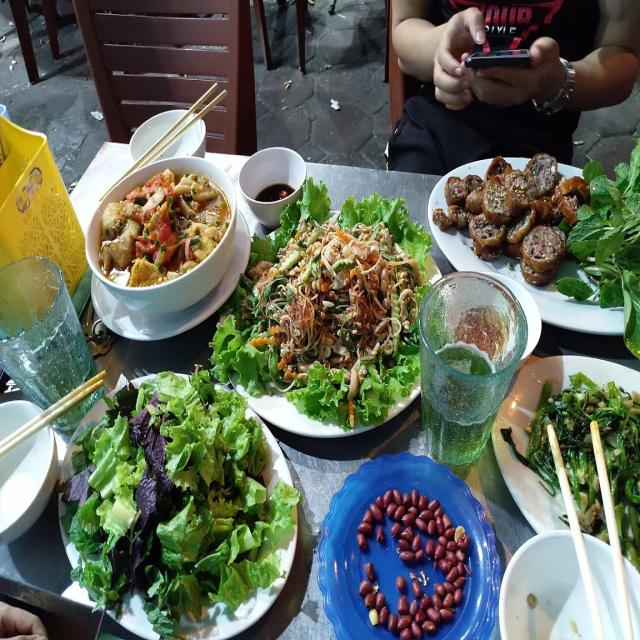canh chua: (90, 123, 230, 312)
dau phong rang: (350, 467, 487, 640)
doi nuong: (436, 106, 640, 320)
goi: (227, 197, 455, 434)
rau muong xao toi: (525, 367, 640, 550)
xi dau: (238, 145, 314, 216)
